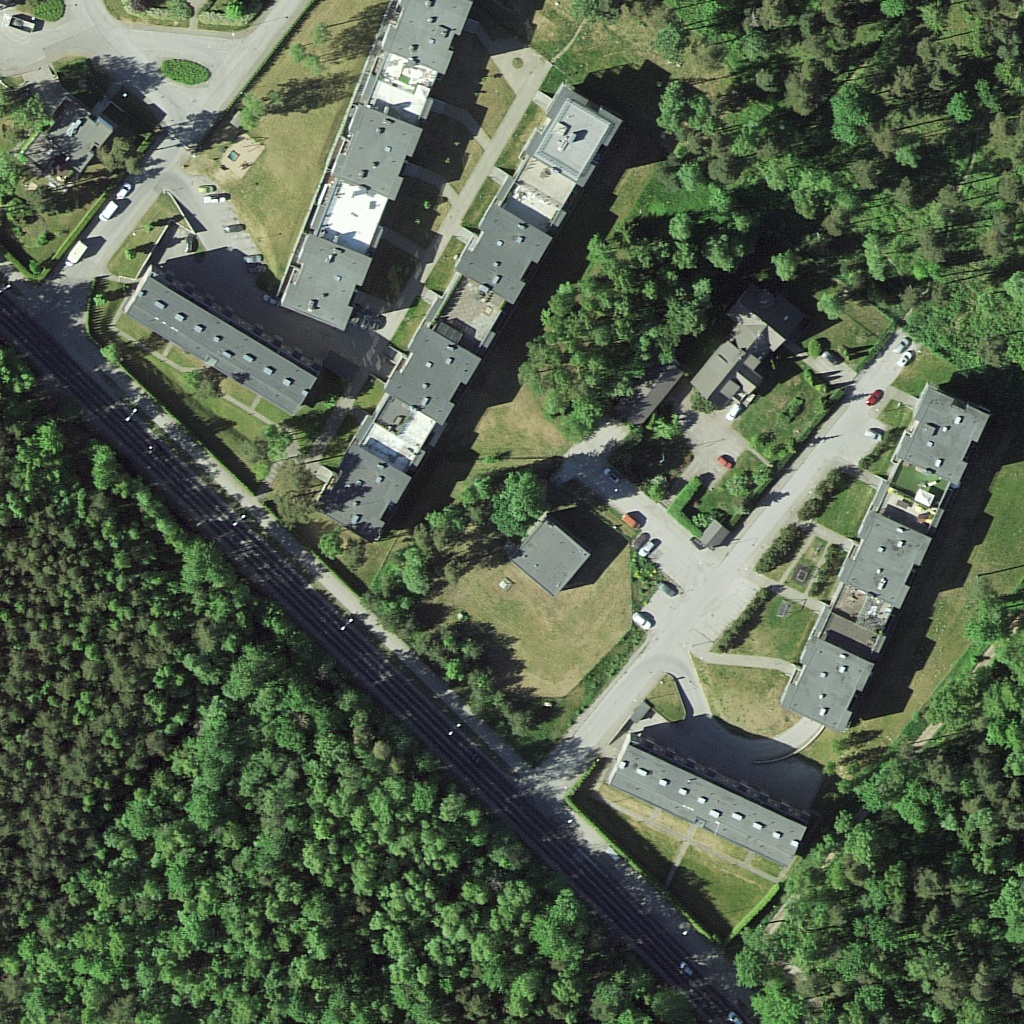building: (124, 276, 325, 413), (617, 725, 814, 862), (527, 85, 628, 196), (897, 378, 989, 496), (695, 309, 790, 423), (272, 230, 377, 332), (381, 333, 490, 431), (840, 506, 943, 608), (311, 444, 417, 541), (322, 103, 430, 198), (454, 199, 549, 306), (776, 635, 878, 732), (15, 99, 118, 193), (383, 1, 472, 85), (515, 517, 592, 597)
